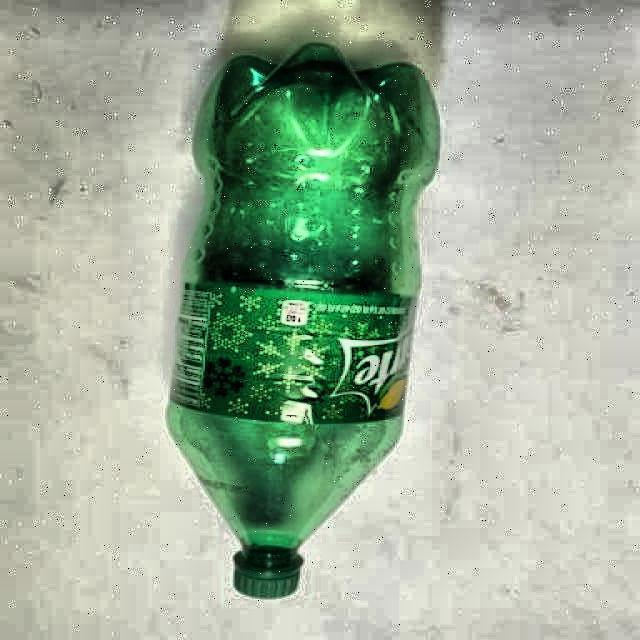plastic: (169, 44, 438, 598)
